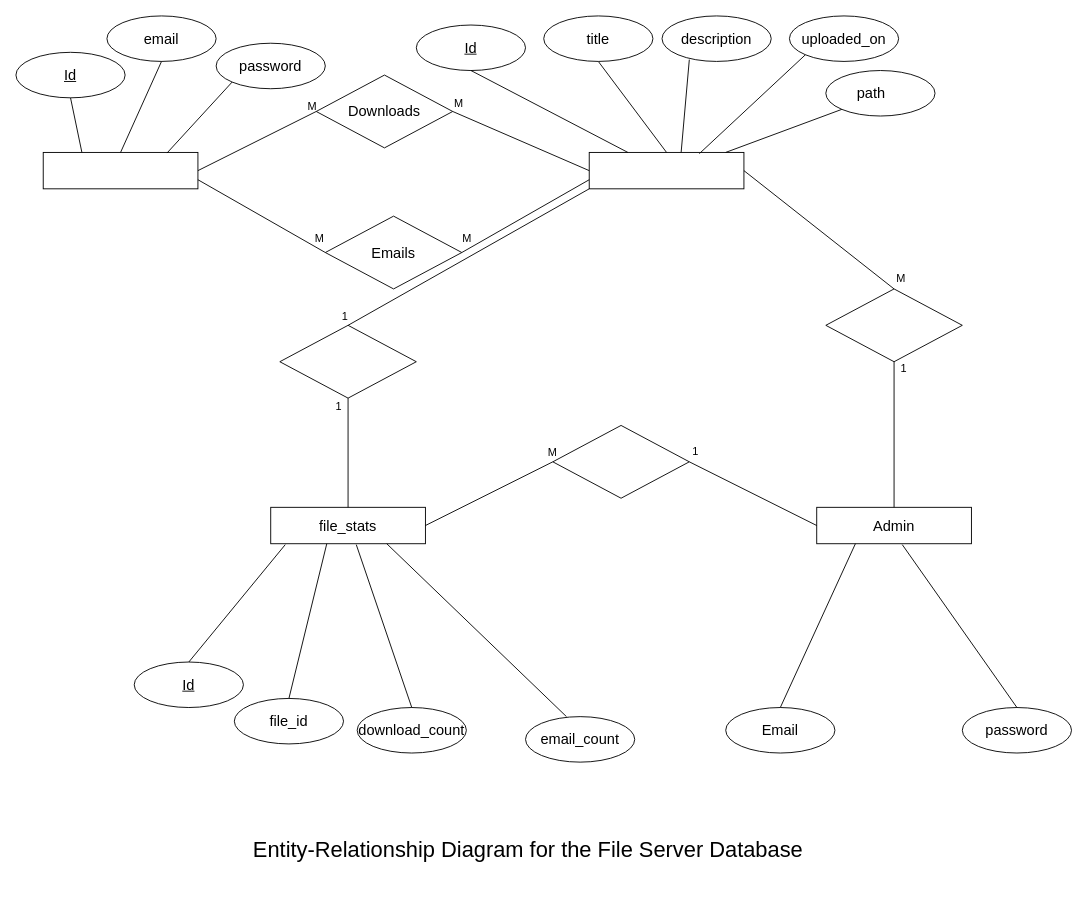
This 1087x909 diagram has some shape labels left out. The centre of each missing label's shape, as x and y in pixels:
"File" goes at (666,170).
"Has" goes at (347,361).
"Uploads" goes at (893,325).
"User" goes at (120,170).
"Views" goes at (620,461).
